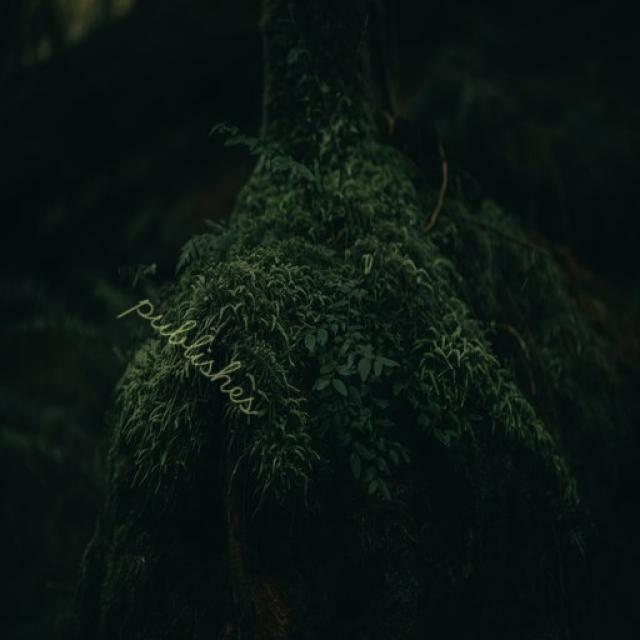watermark: (123, 274, 283, 426)
